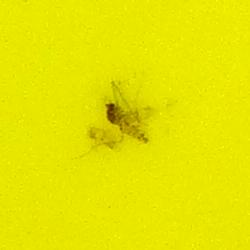Nematocera: (100, 100, 150, 150)
